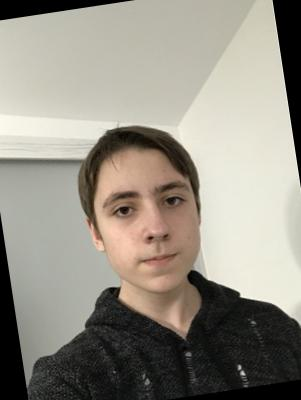without_mask: (92, 171, 209, 302)
